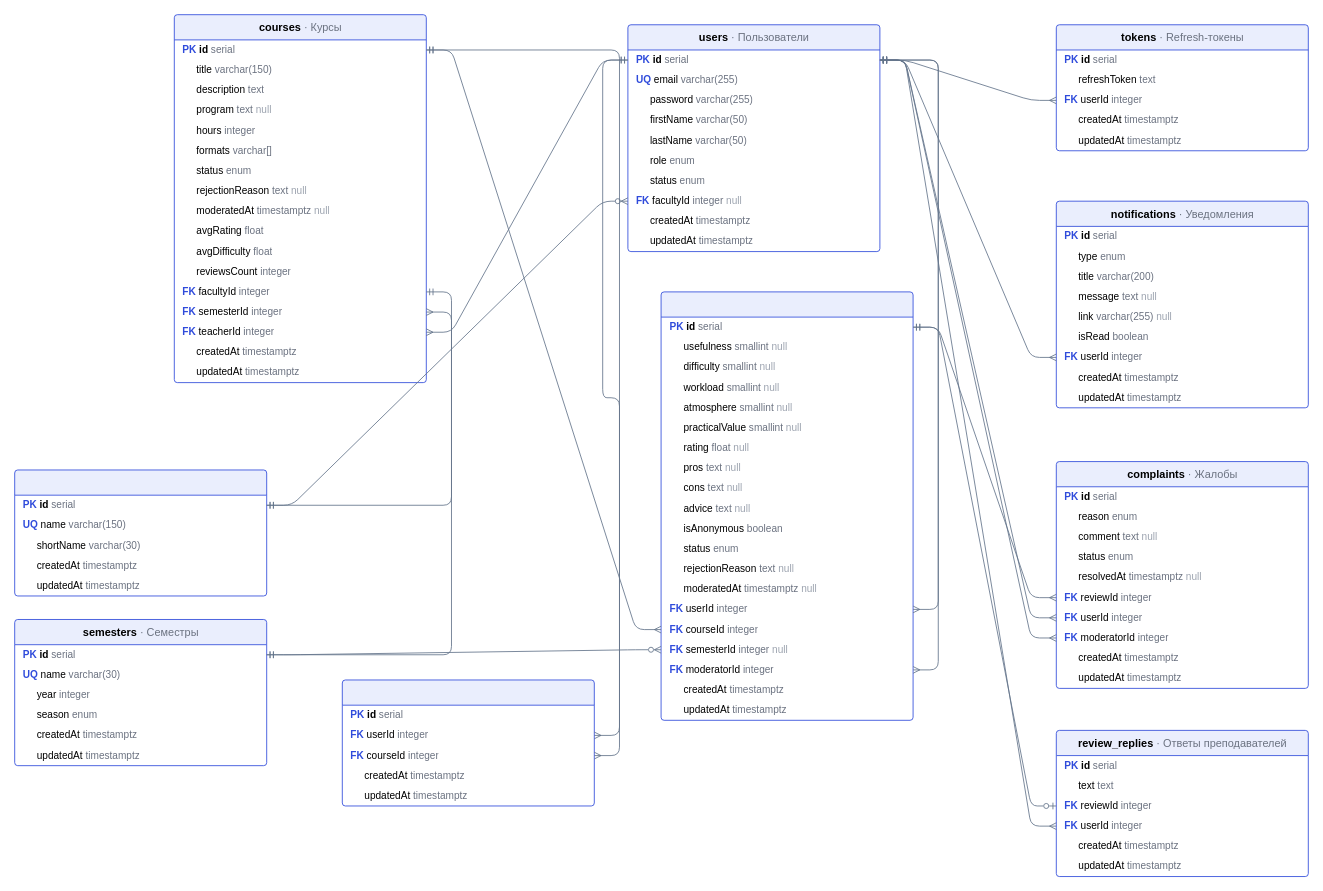
Image size: 1323x891. Some labels were removed from this diagram. Here are the shapes that lost their labels. From the top down, the box of each, then its label:
(660, 291, 913, 720): reviews · Отзывы
(14, 469, 267, 596): faculties · Факультеты
(341, 679, 594, 806): favorites · Избранное
